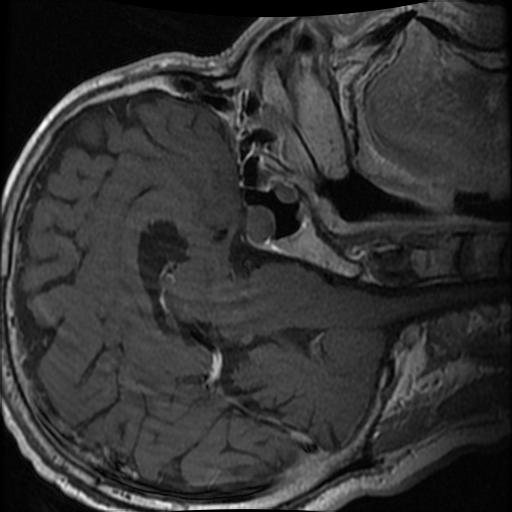pituitary tumour: (244, 206, 276, 244)
